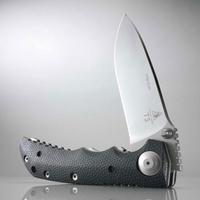knife: (109, 8, 187, 189)
